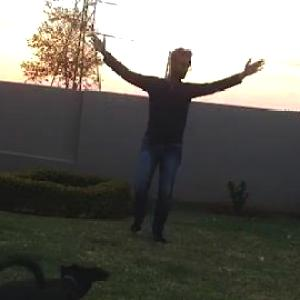takeoff: (85, 36, 264, 238)
